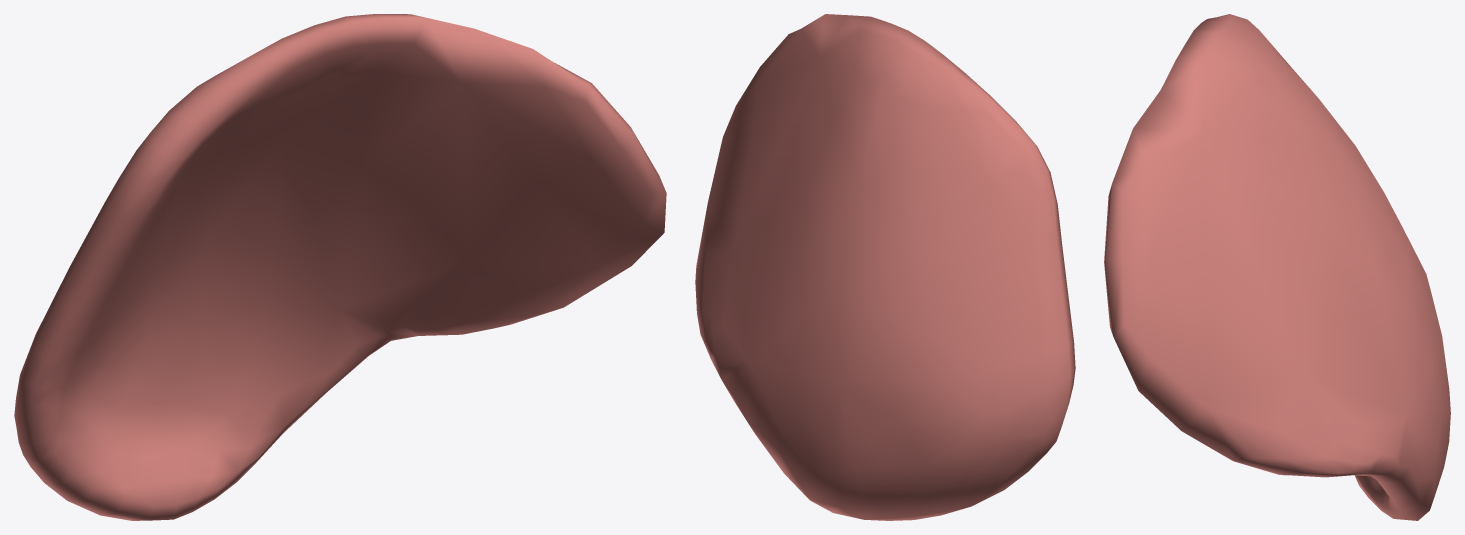
3 views of the same model, side by side, from view 1: azimuth 30°, elevation 25°; view 2: azimuth 150°, elevation 25°; view 3: azimuth 270°, elevation 25° (orthographic). The views are drawn at different scales.
Parts seen in each view (by area): view 1: ZA_3eab85cf0b57c0c6; view 2: ZA_3eab85cf0b57c0c6; view 3: ZA_3eab85cf0b57c0c6.
Boxes of the visible parts, x1=… form: ZA_3eab85cf0b57c0c6: x1=14, y1=14, x2=666, y2=520; ZA_3eab85cf0b57c0c6: x1=695, y1=14, x2=1075, y2=520; ZA_3eab85cf0b57c0c6: x1=1104, y1=14, x2=1450, y2=520.
Bounding box in the file's own units: 0.00628 × 0.00594 × 0.0037.
